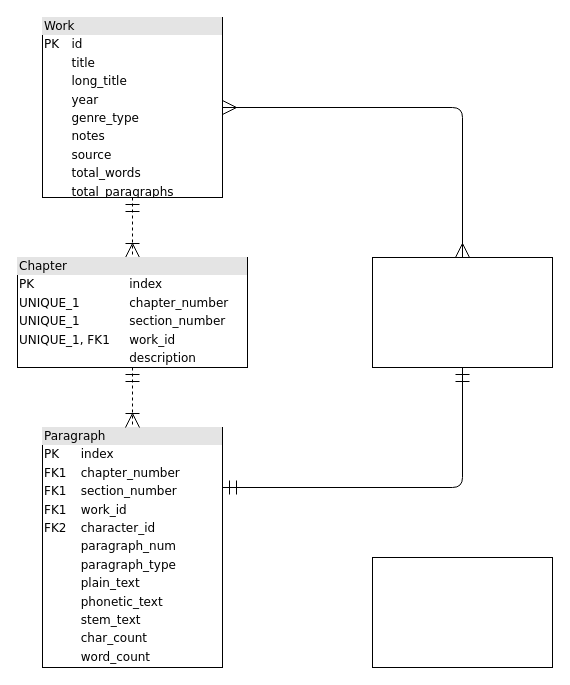
The diagram is 570 pixels wide and 685 high, and some of its shapes have lost their labels. The shapes that lost their labels are listed below. From the top down, each one's centre as x and y in pixels, then its label:
the point at 462,312: Character PK id name abbrev description speech_count
the point at 462,612: WordForm PK index plain_text phonetic_text stem_text occurences
